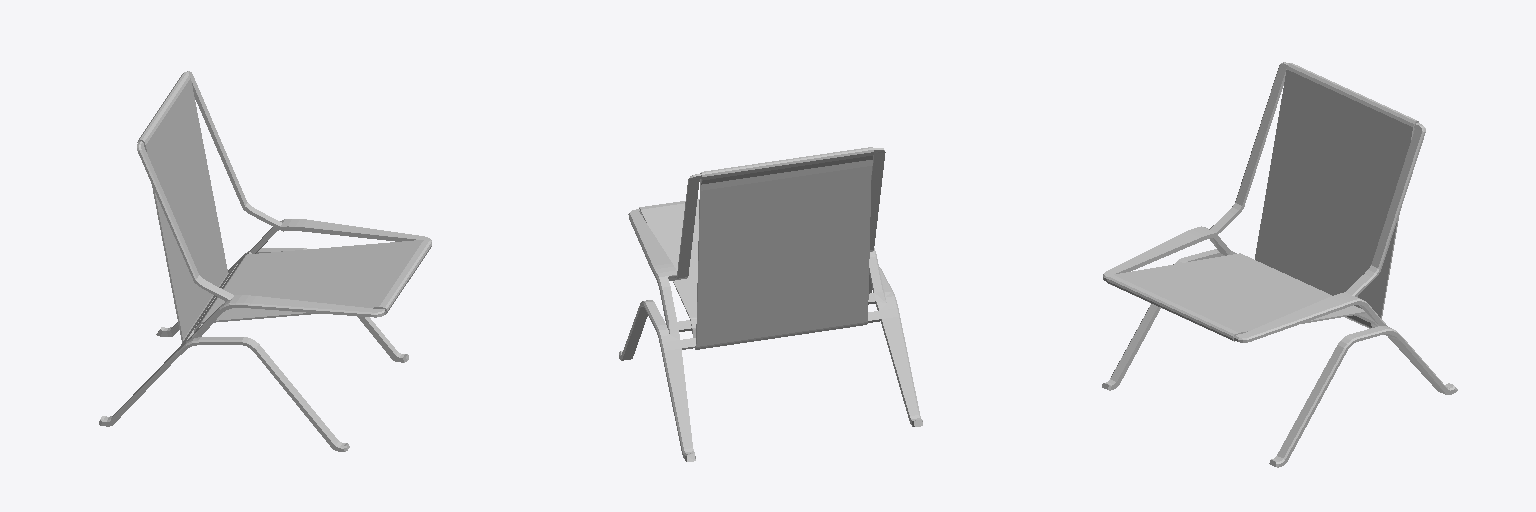
File: chair.obj
3 renders of one model, left to right at view 1: azimuth 30°, elevation 25°; view 2: azimuth 150°, elevation 25°; view 3: azimuth 270°, elevation 25°, orthographic.
Visible parts, largest first — view 1: LoungeChair_01_LOD0_Scene; view 2: LoungeChair_01_LOD0_Scene; view 3: LoungeChair_01_LOD0_Scene.
Boxes of the visible parts, x1,y1,x2,y2 form: LoungeChair_01_LOD0_Scene: [99, 71, 431, 451]; LoungeChair_01_LOD0_Scene: [619, 147, 922, 461]; LoungeChair_01_LOD0_Scene: [1102, 62, 1457, 467].
Bounding box in the file's own units: 1.12 × 0.9549 × 1.11.